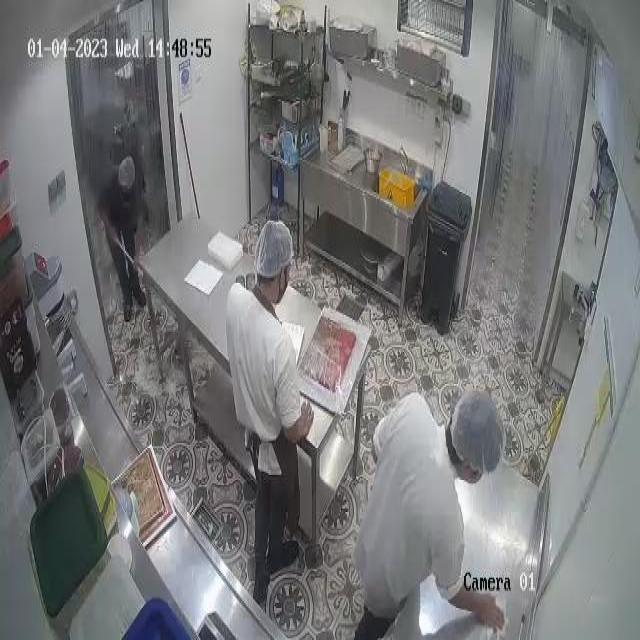hairnet: (454, 388, 503, 472), (256, 220, 293, 279), (117, 157, 135, 193)
